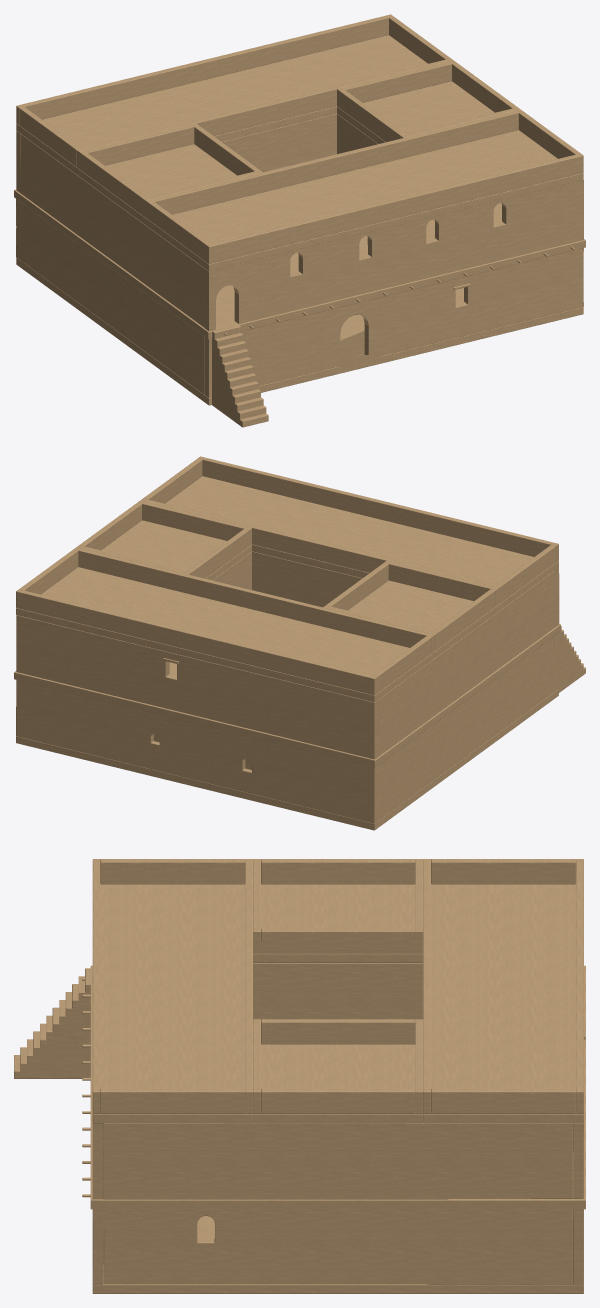
The model's file is riad_6.glb.
The picture shows the model from 3 angles, top to bottom: view 1: azimuth 30°, elevation 25°; view 2: azimuth 150°, elevation 25°; view 3: azimuth 270°, elevation 25°; orthographic projection. The views are drawn at different scales.
Visible parts, largest first — view 1: riad; view 2: riad; view 3: riad.
Boxes of the visible parts, x1,y1,x2,y2 form: riad: (14, 14, 585, 427); riad: (14, 456, 585, 830); riad: (14, 859, 585, 1293).
Size of the model in its own units: 21.49 by 8.64 by 22.14.
1 material, 1 textured.
